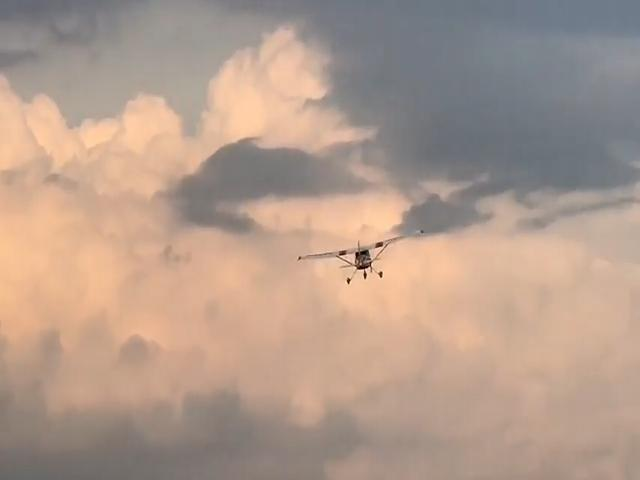plane: (297, 231, 424, 282)
